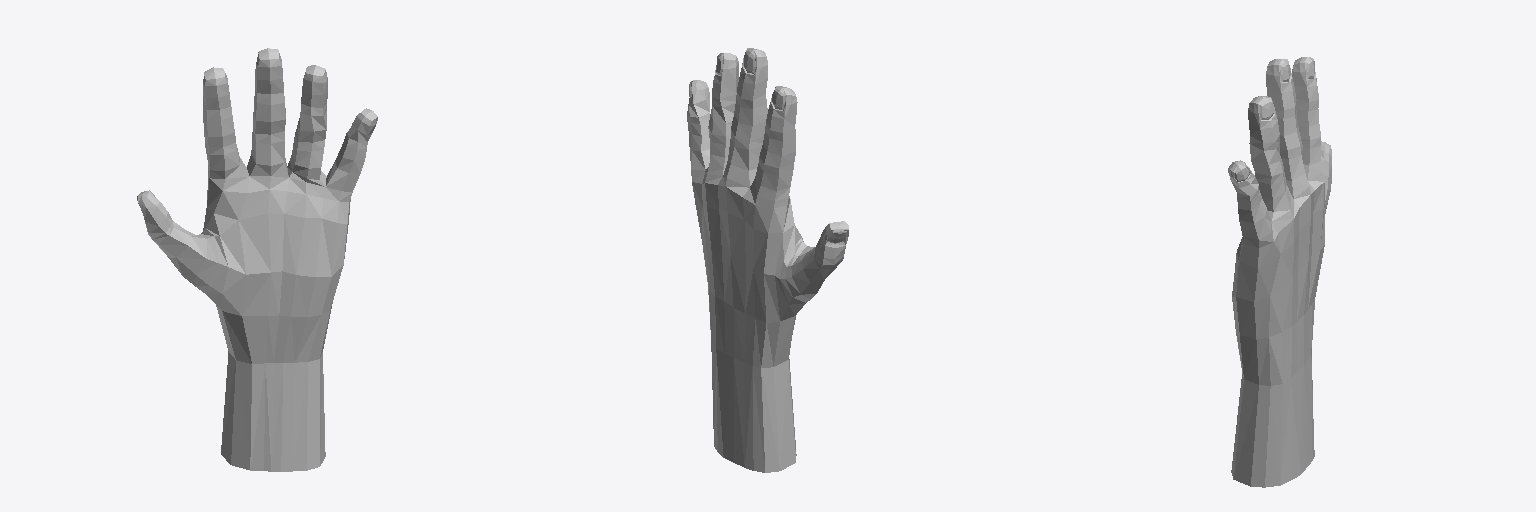
File: handAnimated4_000103.obj
The picture shows the model from 3 angles: view 1: azimuth 30°, elevation 25°; view 2: azimuth 150°, elevation 25°; view 3: azimuth 270°, elevation 25°; orthographic projection.
Visible parts, largest first — view 1: Cube.000_Cube.017_Detached_Detached; view 2: Cube.000_Cube.017_Detached_Detached; view 3: Cube.000_Cube.017_Detached_Detached.
Part boxes in pixels (x1,y1,x2,y2): Cube.000_Cube.017_Detached_Detached: (137,48,377,471); Cube.000_Cube.017_Detached_Detached: (687,48,848,472); Cube.000_Cube.017_Detached_Detached: (1228,57,1331,487).
Size of the model in its own units: 0.6862 by 1.34 by 0.3096.